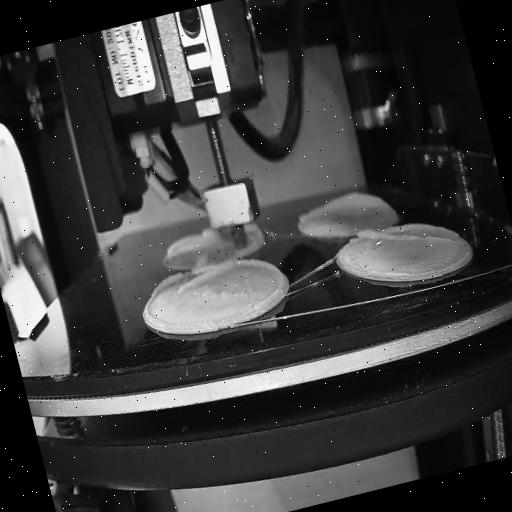over_extrusion: (356, 206, 454, 264), (294, 182, 394, 236), (148, 256, 238, 306), (236, 249, 290, 312), (162, 227, 222, 259)
